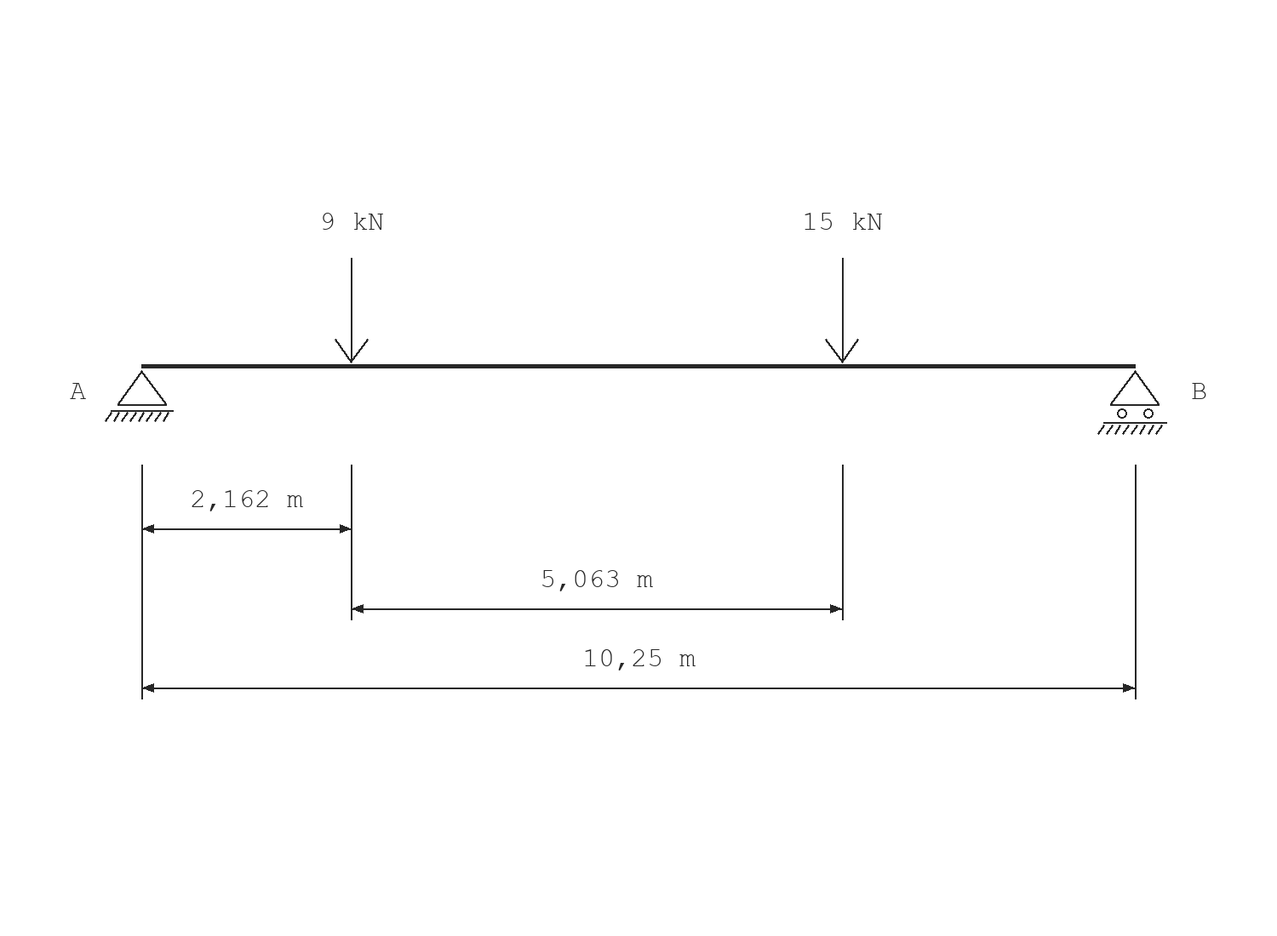pin_support: (105, 370, 174, 422)
point_load: (335, 258, 369, 363), (825, 258, 859, 363)
roller_support: (1097, 370, 1167, 435)
